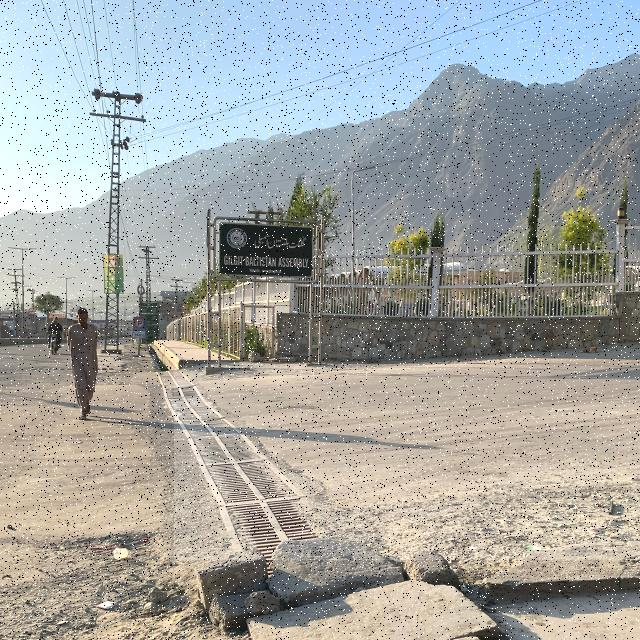right: (174, 364, 640, 560)
